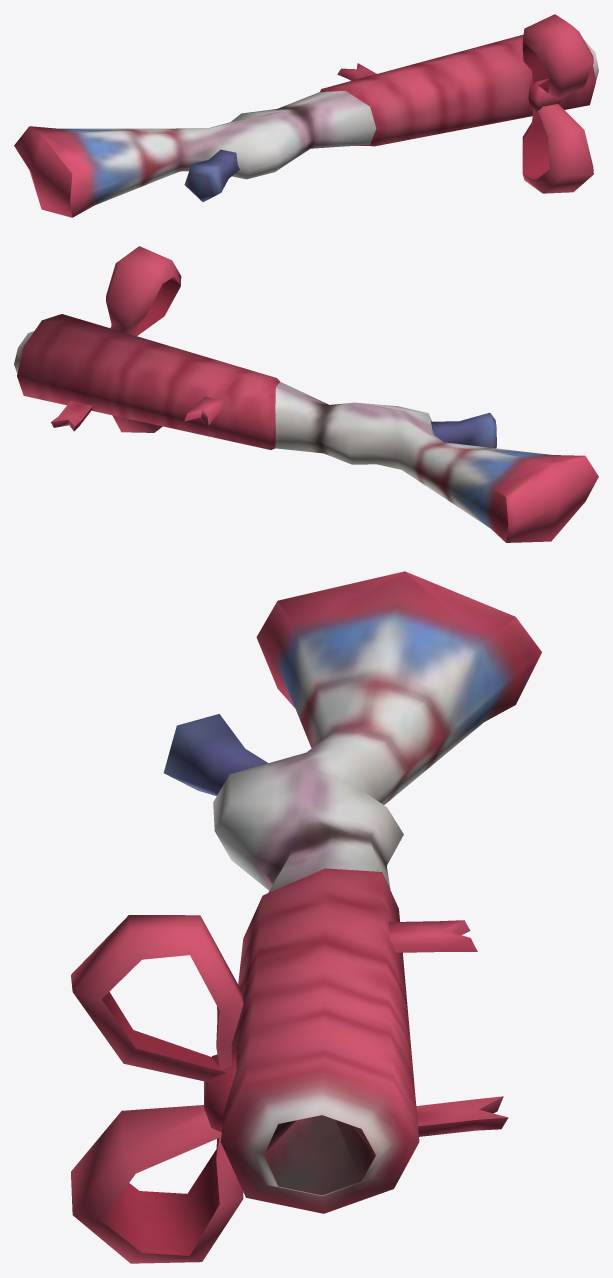
The model's file is bdWeapon.glb.
3 renders of one model, top to bottom at view 1: azimuth 30°, elevation 25°; view 2: azimuth 150°, elevation 25°; view 3: azimuth 270°, elevation 25°, orthographic. The views are drawn at different scales.
Visible parts, largest first — view 1: Rabbit_bdWeapon_tri; view 2: Rabbit_bdWeapon_tri; view 3: Rabbit_bdWeapon_tri.
Boxes of the visible parts, x1,y1,x2,y2 form: Rabbit_bdWeapon_tri: (14,14,598,217); Rabbit_bdWeapon_tri: (14,246,598,542); Rabbit_bdWeapon_tri: (71,571,541,1263).
Bounding box in the file's own units: 0.6003 × 0.1791 × 0.2308.
Materials: 1 (1 with a texture image).
